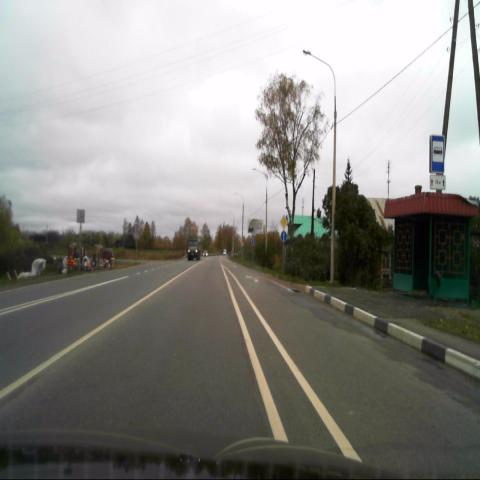8_2_1: (430, 175, 446, 190)
